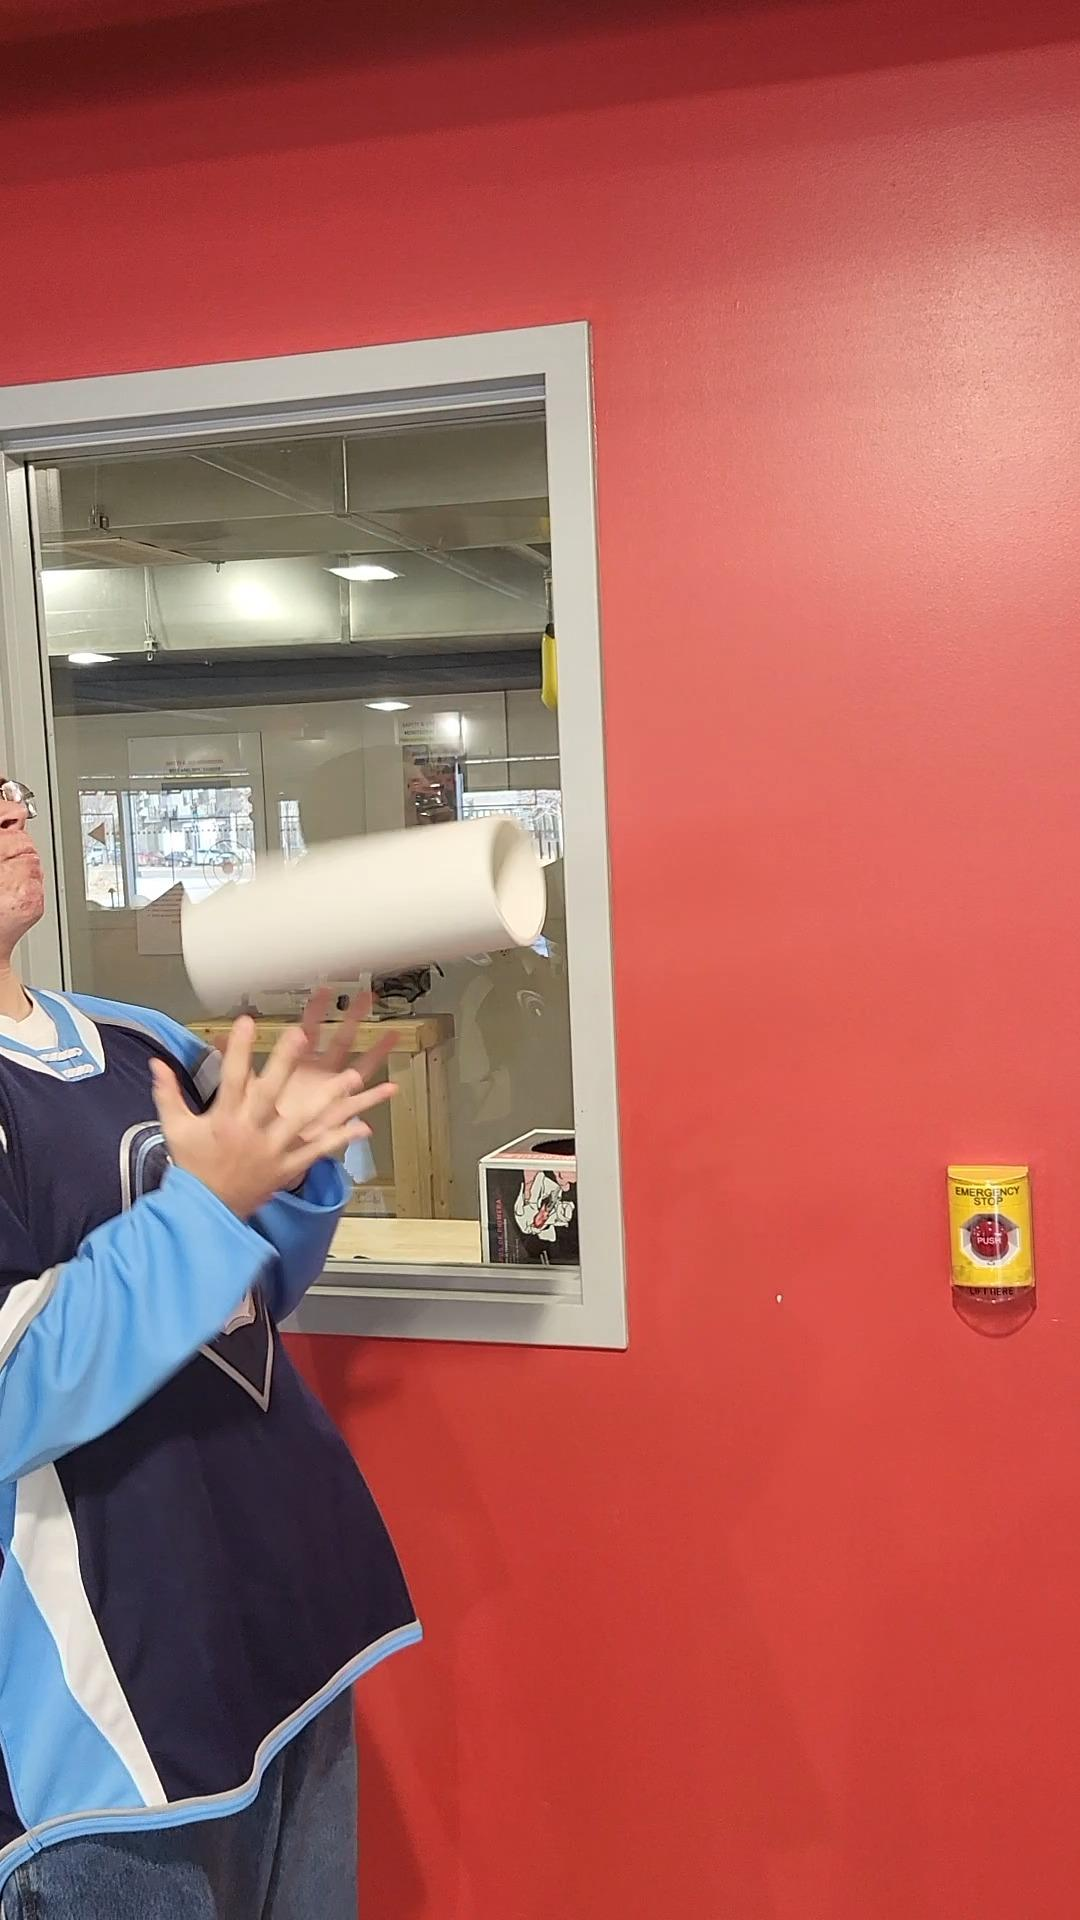coral: (183, 807, 547, 1006)
